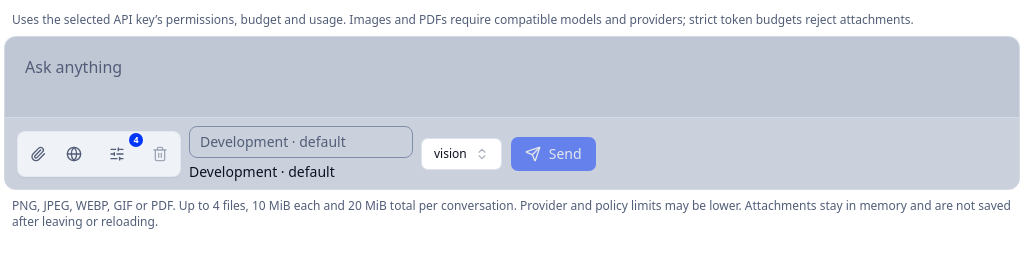
controlled image draft › rejected submission keeps the draft and displays the failure notice
The width and height of the screenshot is (1024, 274).
In the text box named "Message": (512, 77) [5,37,1019,117], type "keep my draft"
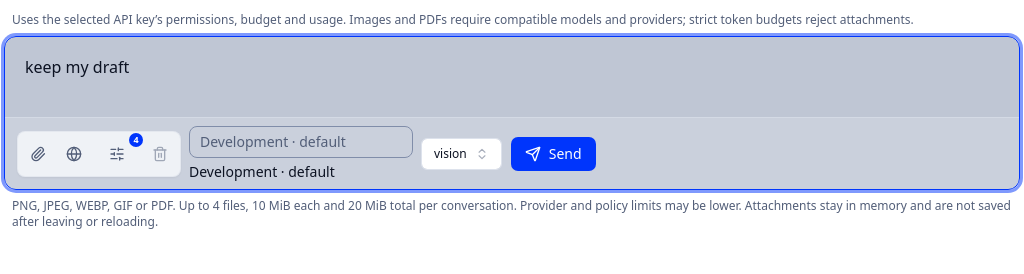
Click the button "Send": (553, 154) [510,136,597,172]
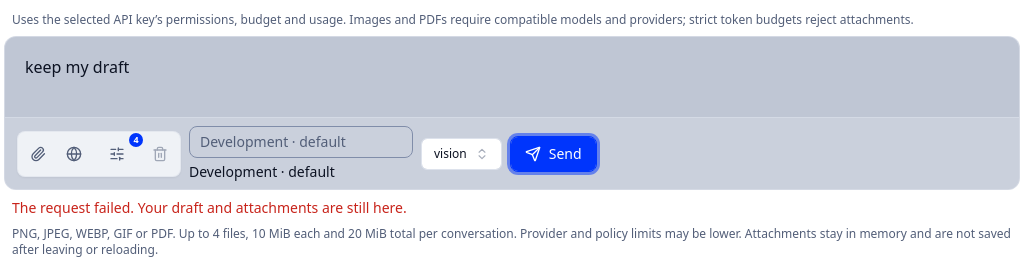
Result: the message shows "Your draft and attachments are still here" at [12,198,407,217]
